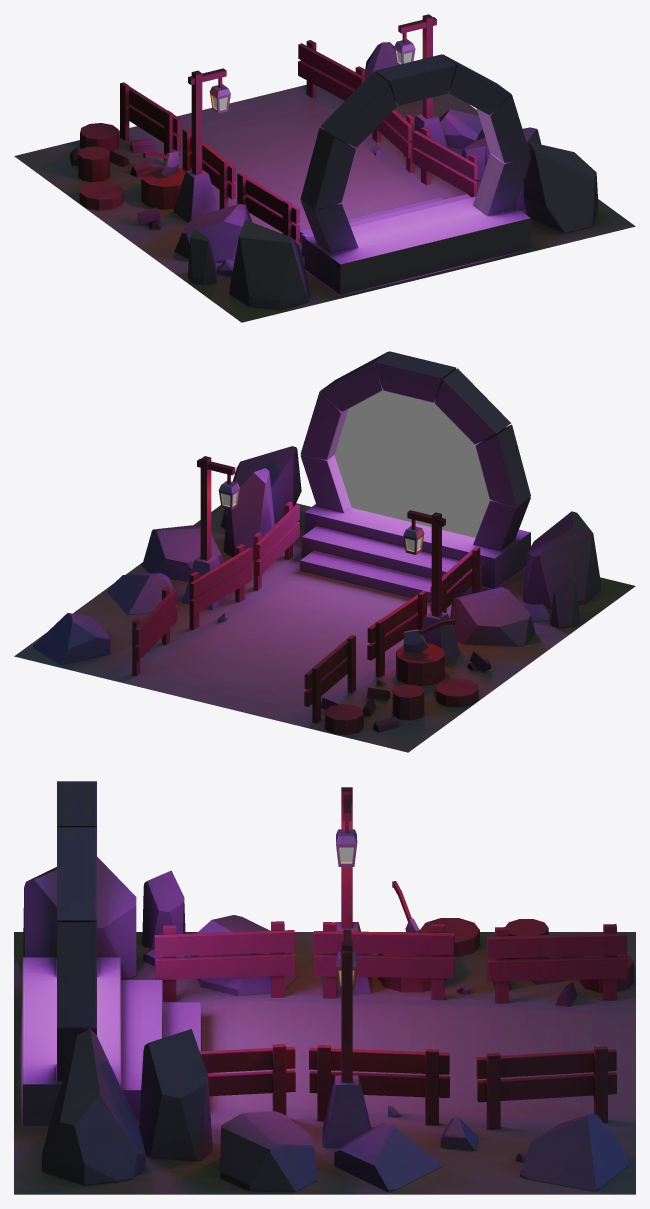
The model's file is journey-transformed.glb.
The picture shows the model from 3 angles, top to bottom: view 1: azimuth 30°, elevation 25°; view 2: azimuth 150°, elevation 25°; view 3: azimuth 270°, elevation 25°; orthographic projection. The views are drawn at different scales.
Visible parts, largest first — view 1: baked; view 2: baked, portalCircle; view 3: baked.
Part boxes in pixels (x1,y1,x2,y2): baked: (14,14,635,322); baked: (14,351,635,752); portalCircle: (334,390,490,537); baked: (14,781,635,1194).
Size of the model in its own units: 4 by 1.91 by 4.
1 material, 1 textured.
